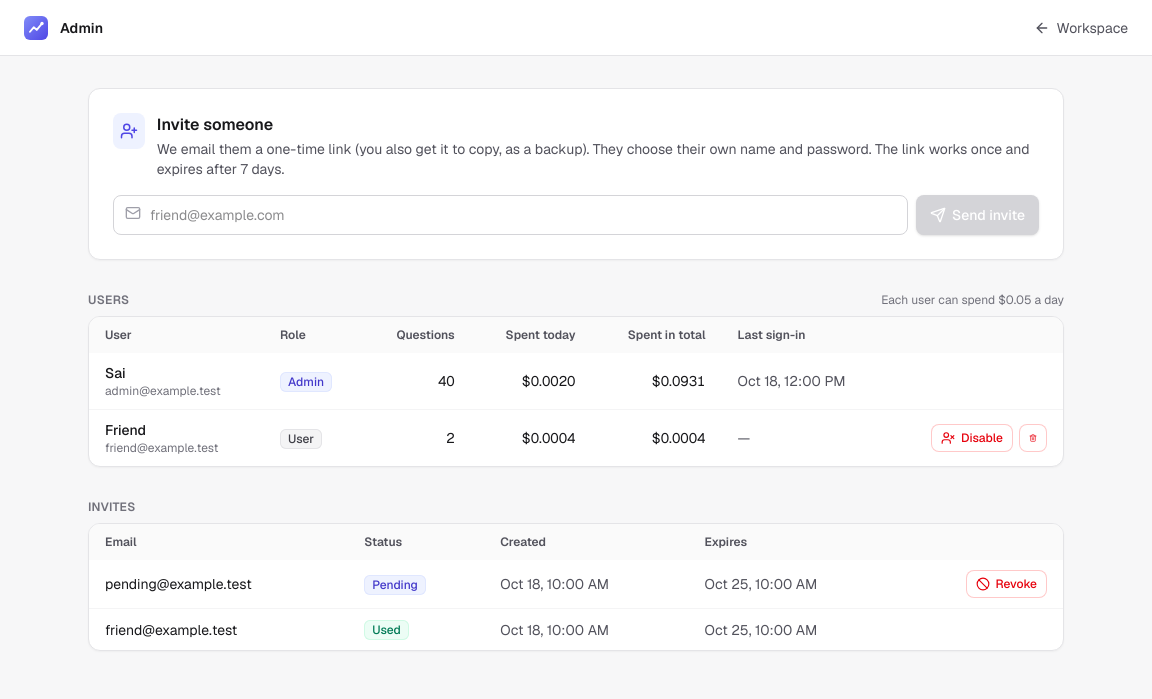
Admin › emails the invite and still shows the one-time link to copy
This screenshot has width=1152, height=699.
Type "new@example.test" into the field named "Email to invite".
click(510, 215); type("new@example.test")  # box [113,195,908,235]
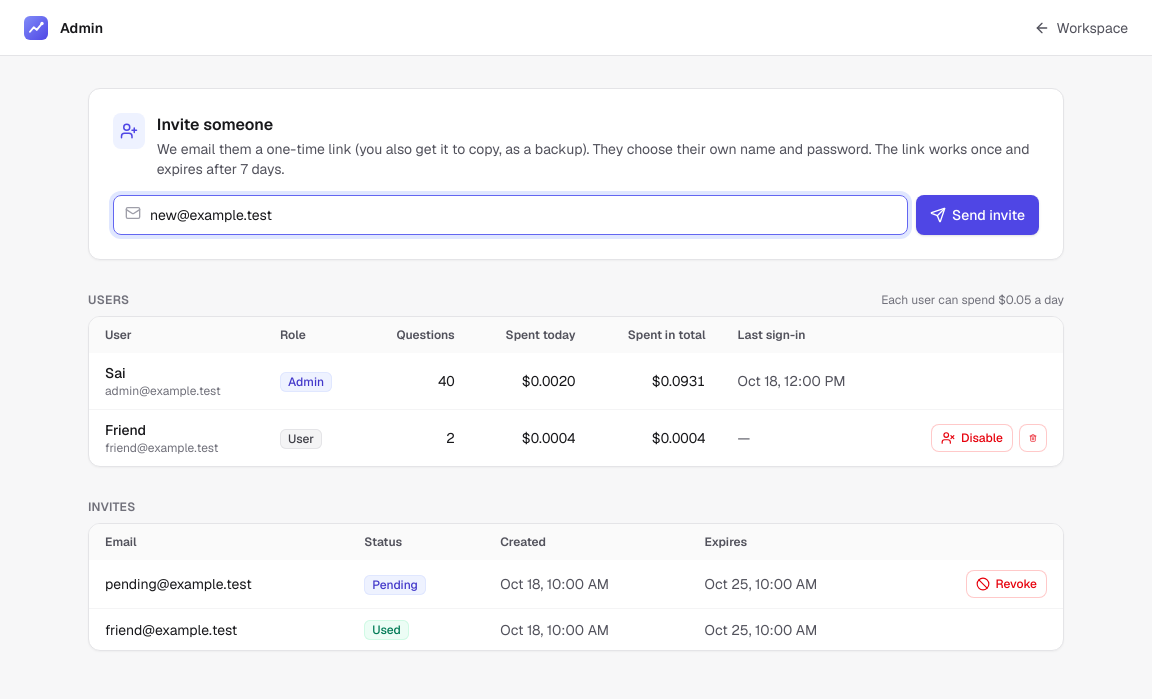
Click the button "Send invite".
click(977, 215)  # box [916,195,1039,235]
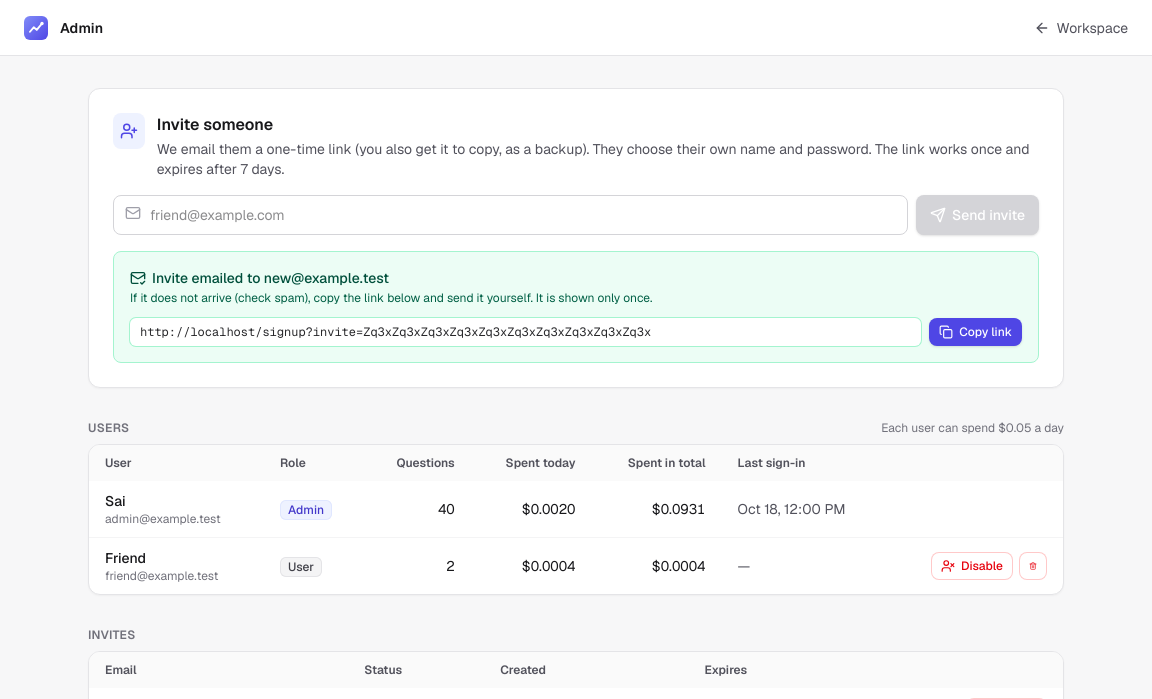
Check: the text "Invite emailed to new@example.test" is shown, box [130,269,389,287]
Check: the text "shown only once" is shown, box [130,290,652,306]
